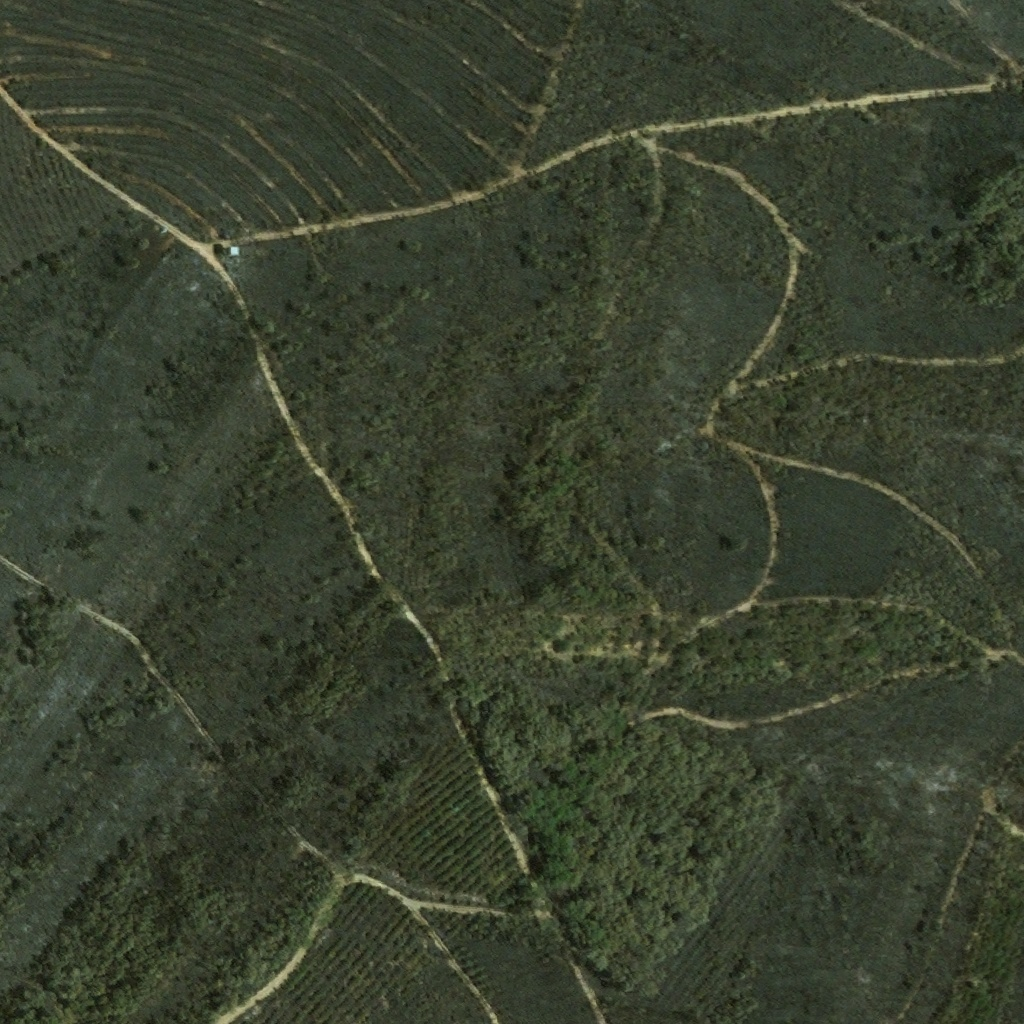0 no-damage: (225, 246, 239, 256)
